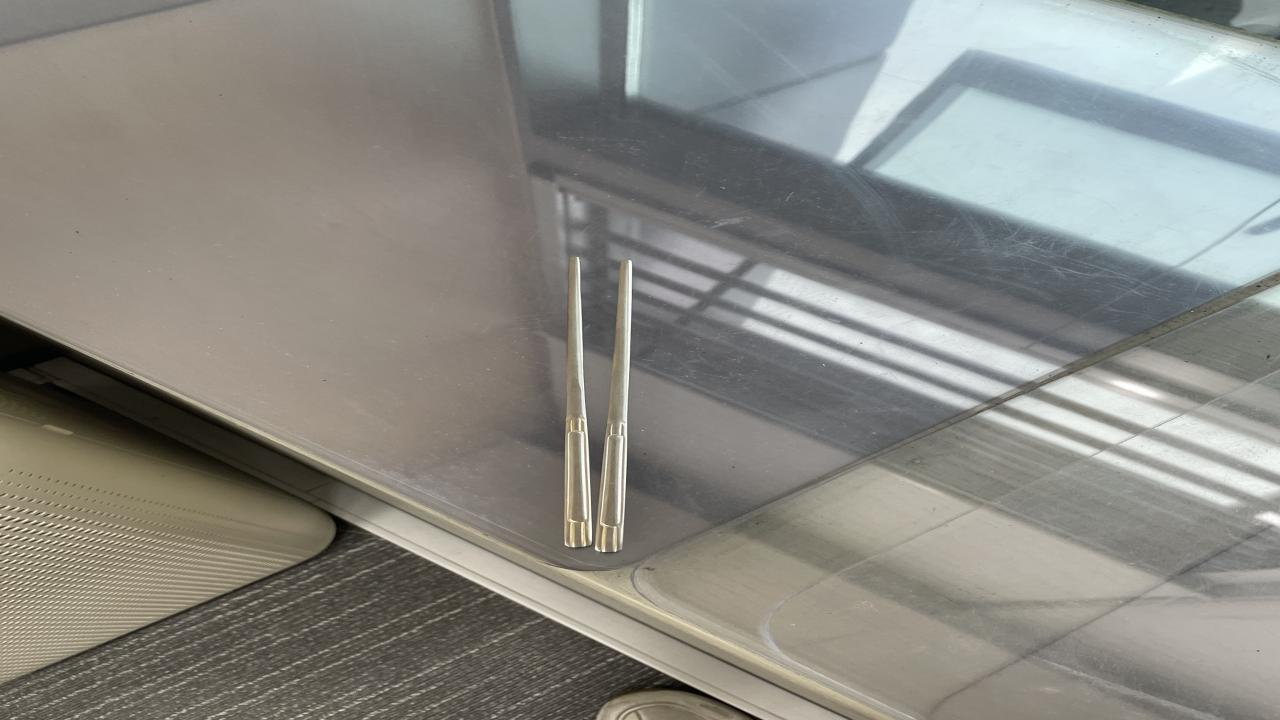chopstick: (555, 254, 636, 558)
